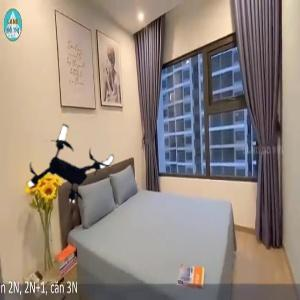drone: (24, 117, 118, 211)
